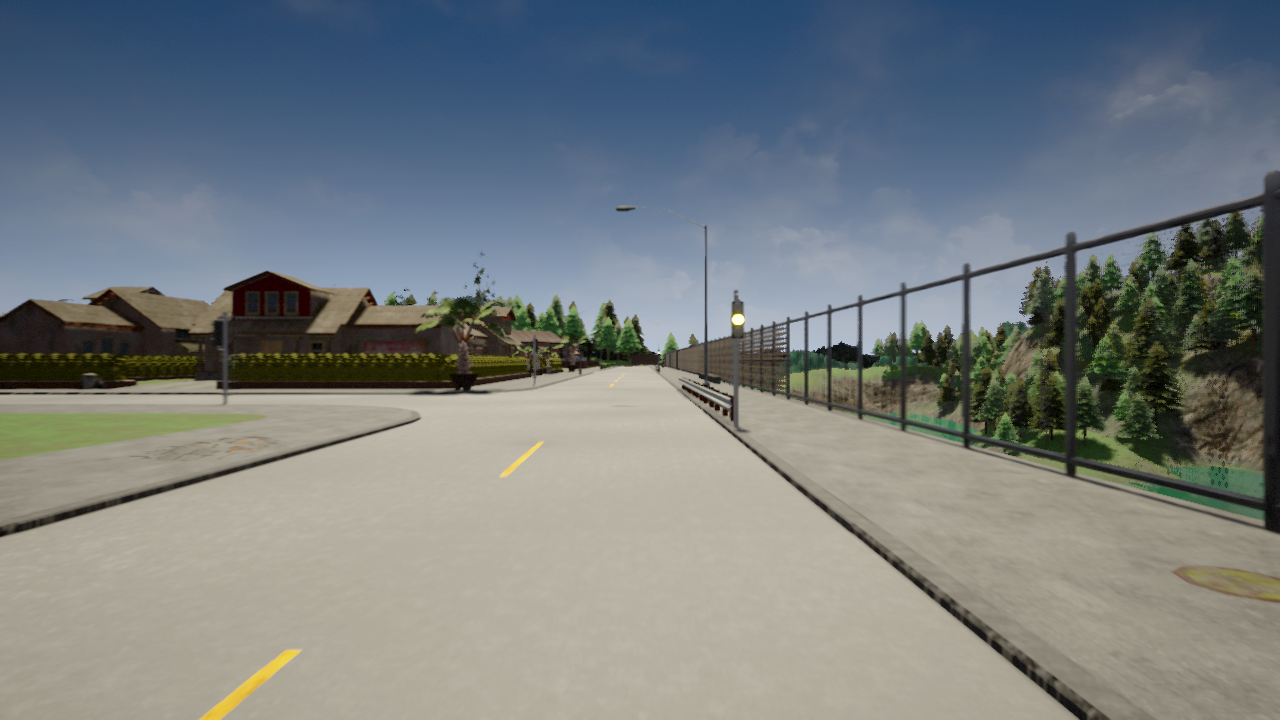yellow: (730, 300, 747, 340)
